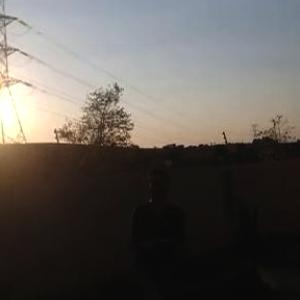follow: (126, 155, 196, 299)
